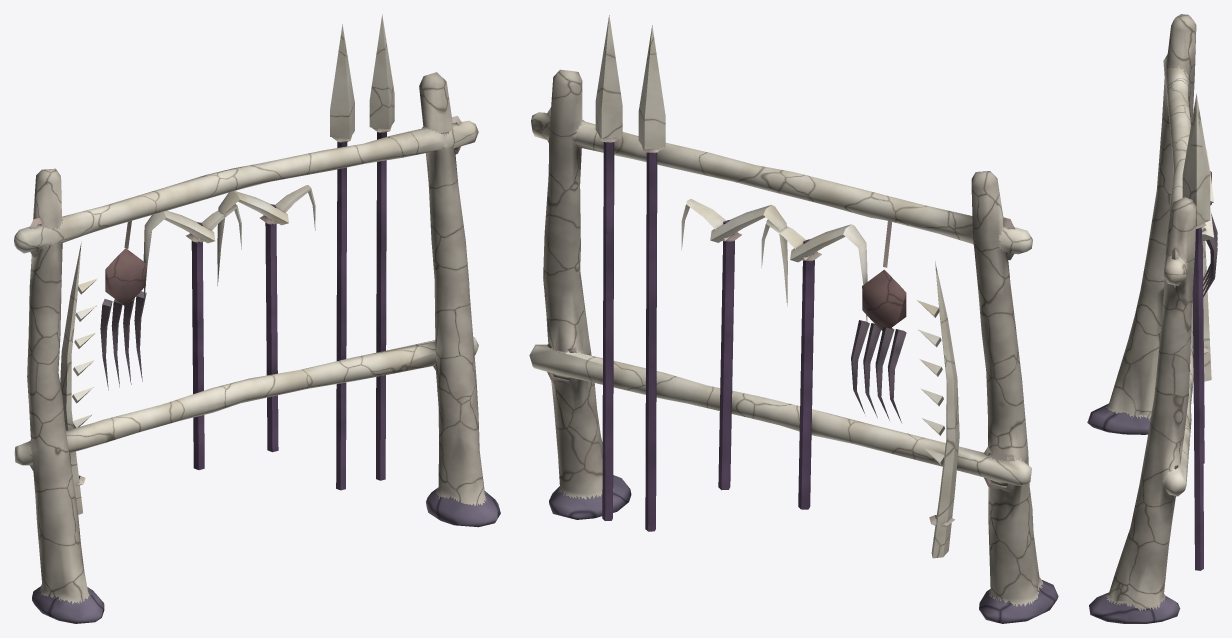
Rendered from rack_armas_organicas.fbx.
The picture shows the model from 3 angles, left to right: view 1: azimuth 30°, elevation 25°; view 2: azimuth 150°, elevation 25°; view 3: azimuth 270°, elevation 25°; orthographic projection. The views are drawn at different scales.
Visible parts, largest first — view 1: rack; view 2: rack; view 3: rack.
Boxes of the visible parts, x1,y1,x2,y2 form: rack: (14,14,500,623); rack: (529,15,1058,623); rack: (1087,14,1217,623).
Size of the model in its own units: 4.01 by 4 by 0.9971.
Materials: 1 (1 with a texture image).
